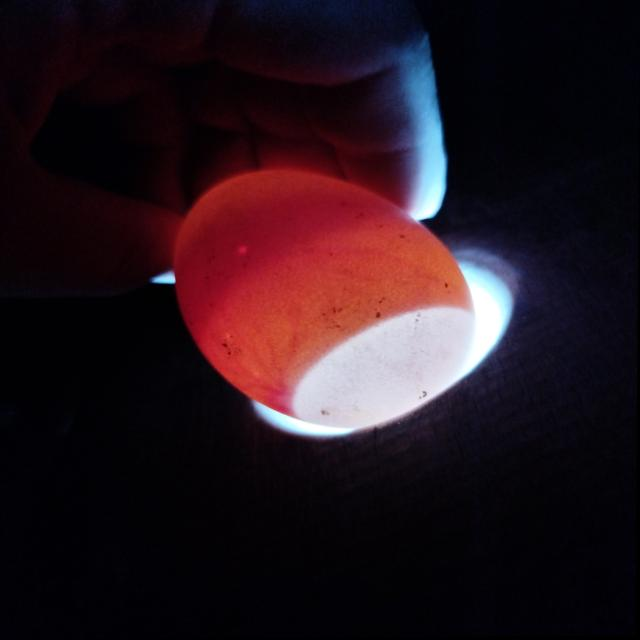Camara de Ar: (292, 306, 475, 430)
Gema Quebrada: (173, 177, 429, 350)
